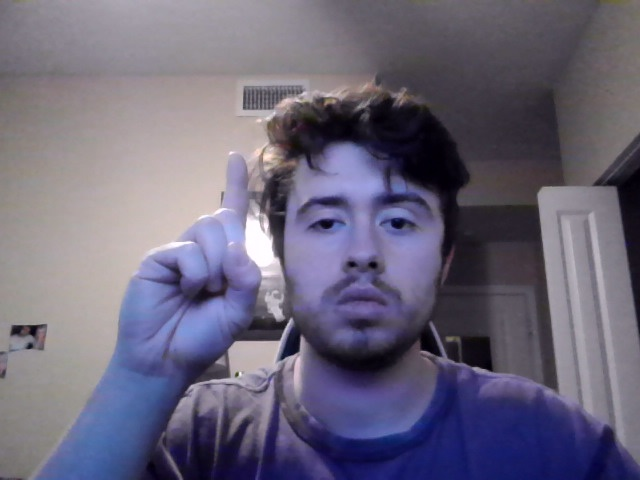d: (116, 150, 263, 386)
